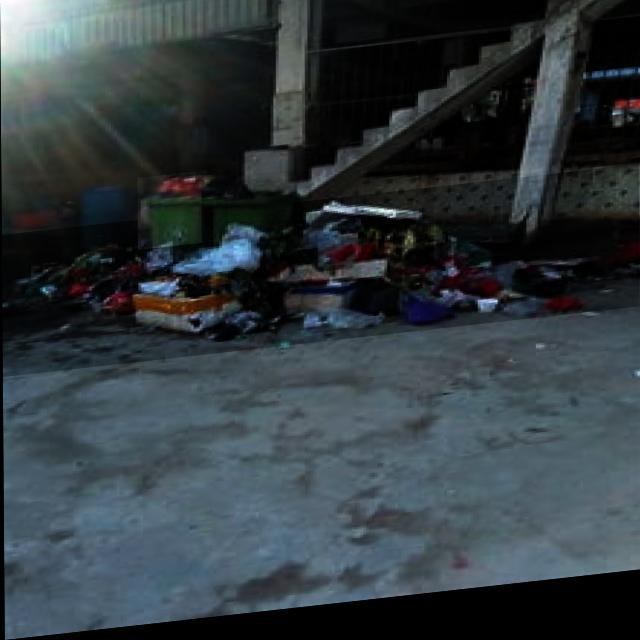garbage: (1, 179, 639, 377)
overflow: (201, 177, 294, 250), (137, 176, 204, 254)
